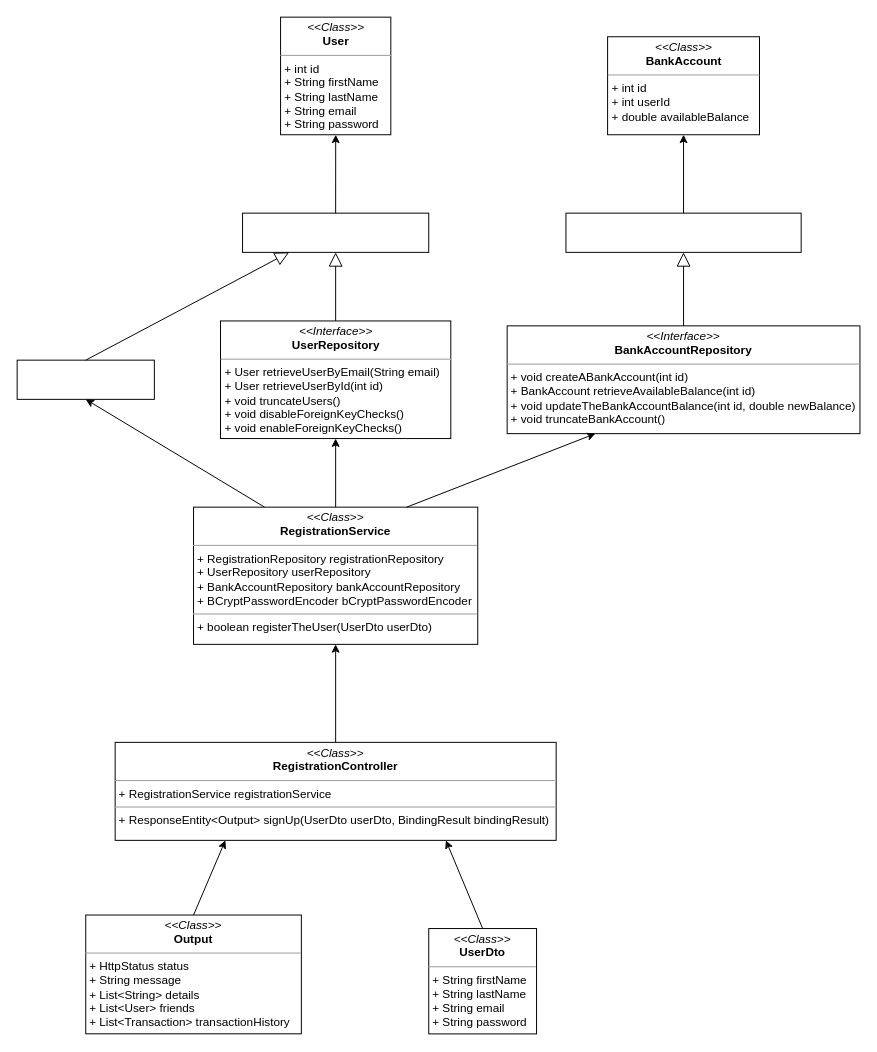
The diagram is 877 pixels wide and 1052 high, and some of its shapes have lost their labels. The shapes that lost their labels are listed below. From the top down, each one's centre as x and y in pixels, then its label:
[335,232]: <<Interface>> CrudRepository<User, Integer>
[683,232]: <<Interface>> CrudRepository<BankAccount, Integer>
[85,379]: << Interface >> RegistrationRepository
